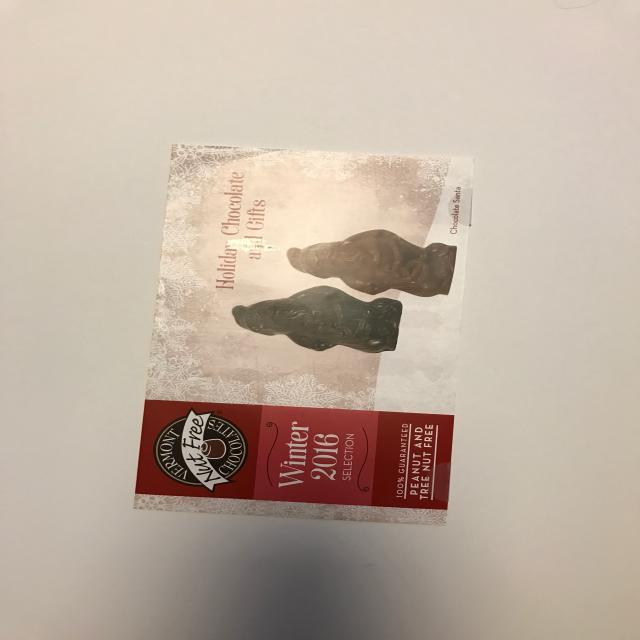paper: (138, 141, 478, 534)
